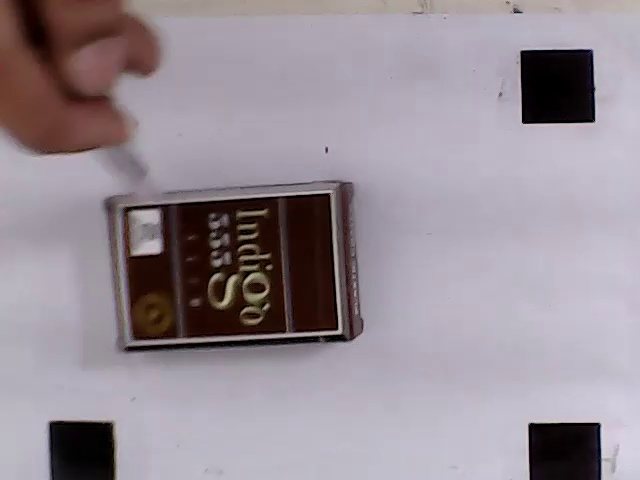BEX: (118, 192, 341, 343)
